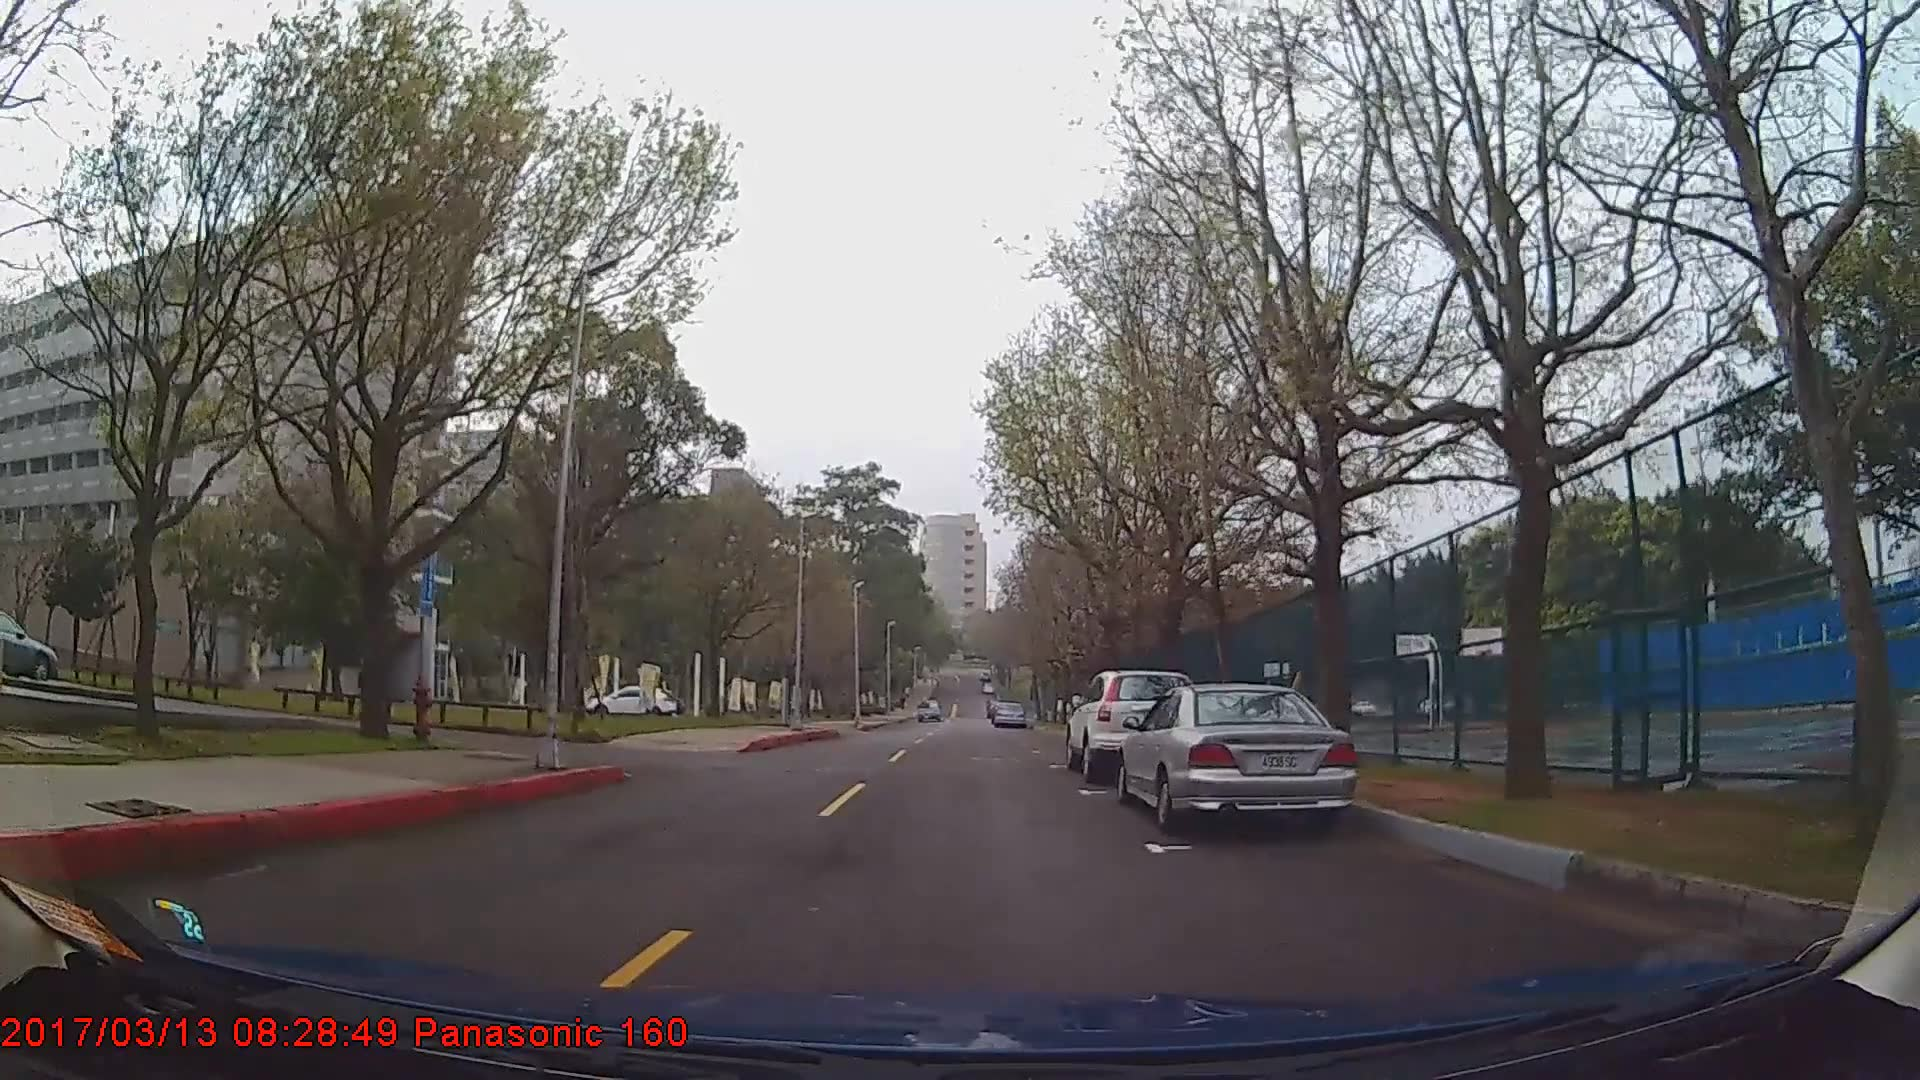vehicle: (1117, 682, 1357, 832), (1065, 669, 1197, 781), (0, 609, 57, 683), (585, 683, 680, 716), (990, 699, 1025, 727)
